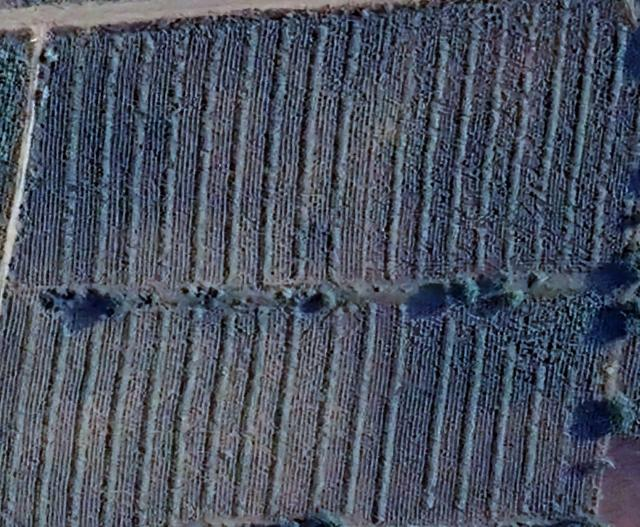Farms: (0, 2, 640, 527)
